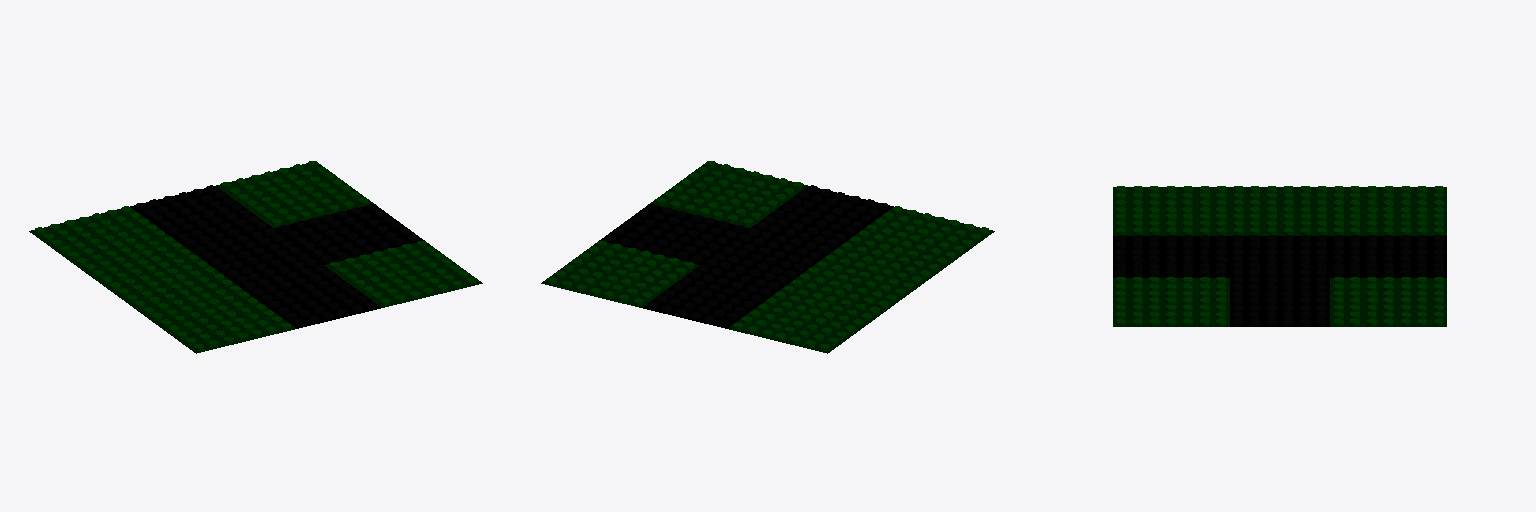
The model's file is rua_cruzamento_em_T_terreno.obj.
The picture shows the model from 3 angles: view 1: azimuth 30°, elevation 25°; view 2: azimuth 150°, elevation 25°; view 3: azimuth 270°, elevation 25°; orthographic projection.
Parts seen in each view (by area): view 1: Cylinder.008, Cylinder.001, Cylinder.000, Cylinder.007_Cylinder.011, Cylinder.006_Cylinder.010, Cylinder.003, Cylinder.002; view 2: Cylinder.008, Cylinder.001, Cylinder.000, Cylinder.007_Cylinder.011, Cylinder.006_Cylinder.010, Cylinder.003, Cylinder.002; view 3: Cylinder.008, Cylinder.001, Cylinder.000, Cylinder.007_Cylinder.011, Cylinder.006_Cylinder.010, Cylinder.003, Cylinder.002.
Boxes of the visible parts, x1,y1,x2,y2 form: Cylinder.008: [29, 161, 482, 307]; Cylinder.001: [136, 185, 375, 325]; Cylinder.000: [130, 187, 381, 328]; Cylinder.007_Cylinder.011: [88, 249, 245, 316]; Cylinder.006_Cylinder.010: [138, 288, 295, 353]; Cylinder.003: [280, 204, 418, 262]; Cylinder.002: [274, 206, 424, 264]; Cylinder.008: [541, 161, 885, 353]; Cylinder.001: [648, 185, 887, 325]; Cylinder.000: [642, 187, 893, 328]; Cylinder.007_Cylinder.011: [786, 243, 943, 310]; Cylinder.006_Cylinder.010: [845, 206, 994, 273]; Cylinder.003: [605, 204, 743, 262]; Cylinder.002: [599, 206, 749, 264]; Cylinder.008: [1113, 186, 1446, 326]; Cylinder.001: [1116, 235, 1443, 276]; Cylinder.000: [1113, 236, 1446, 277]; Cylinder.007_Cylinder.011: [1213, 186, 1329, 235]; Cylinder.006_Cylinder.010: [1113, 186, 1220, 235]; Cylinder.003: [1233, 277, 1326, 325]; Cylinder.002: [1230, 278, 1329, 326].
Size of the model in its own units: 17.43 by 0.1927 by 17.58.